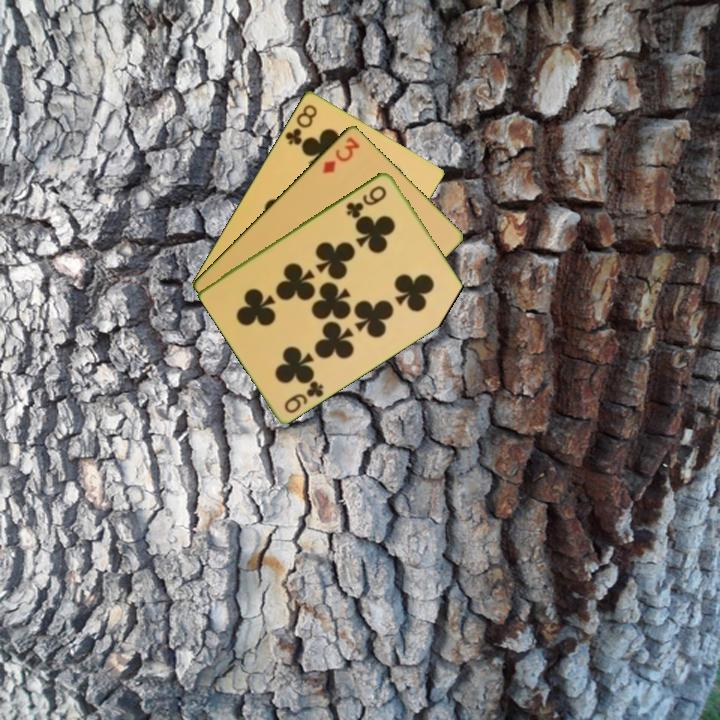3d: (319, 133, 363, 176)
8c: (281, 100, 320, 148)
9c: (342, 181, 390, 220), (281, 377, 327, 416)
